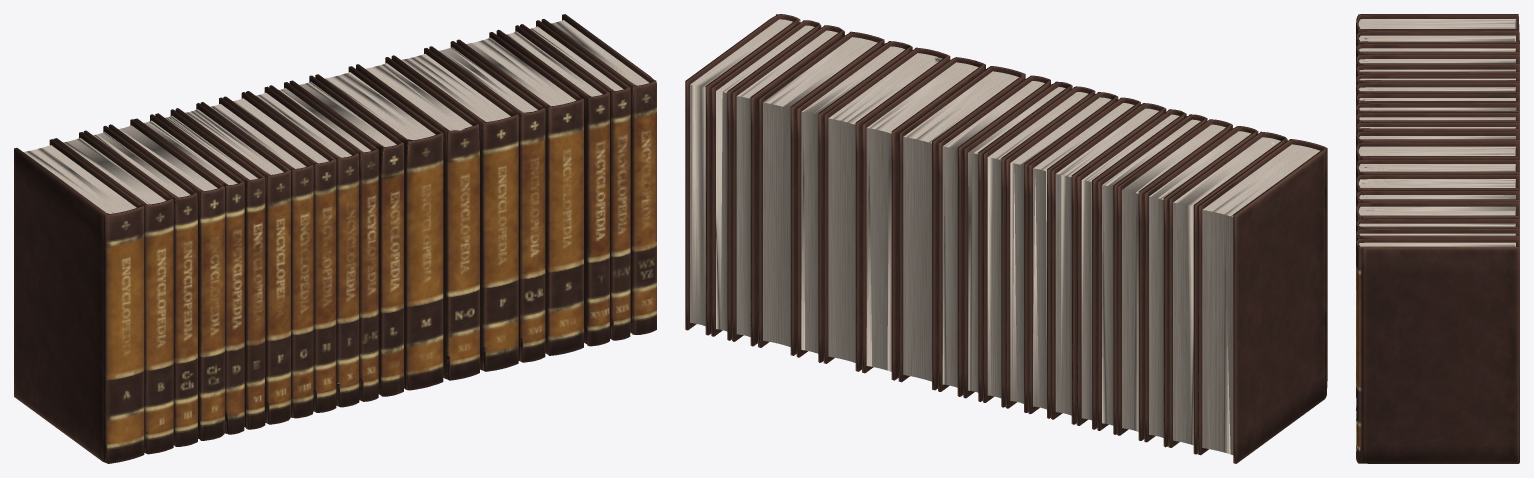
Rendered from book_encyclopedia_web.gltf.
3 views of the same model, side by side, from view 1: azimuth 30°, elevation 25°; view 2: azimuth 150°, elevation 25°; view 3: azimuth 270°, elevation 25° (orthographic). The views are drawn at different scales.
Parts seen in each view (by area): view 1: book_encyclopedia_set_01_book01, book_encyclopedia_set_01_book13, book_encyclopedia_set_01_book15, book_encyclopedia_set_01_book17, book_encyclopedia_set_01_book14, book_encyclopedia_set_01_book02, book_encyclopedia_set_01_book16, book_encyclopedia_set_01_book04, book_encyclopedia_set_01_book20, book_encyclopedia_set_01_book07, book_encyclopedia_set_01_book18, book_encyclopedia_set_01_book12 (+8 smaller); view 2: book_encyclopedia_set_01_book01, book_encyclopedia_set_01_book13, book_encyclopedia_set_01_book15, book_encyclopedia_set_01_book17, book_encyclopedia_set_01_book14, book_encyclopedia_set_01_book02, book_encyclopedia_set_01_book04, book_encyclopedia_set_01_book16, book_encyclopedia_set_01_book20, book_encyclopedia_set_01_book18, book_encyclopedia_set_01_book07, book_encyclopedia_set_01_book12 (+8 smaller); view 3: book_encyclopedia_set_01_book20, book_encyclopedia_set_01_book17, book_encyclopedia_set_01_book01, book_encyclopedia_set_01_book13, book_encyclopedia_set_01_book15, book_encyclopedia_set_01_book14, book_encyclopedia_set_01_book02, book_encyclopedia_set_01_book16, book_encyclopedia_set_01_book03, book_encyclopedia_set_01_book12, book_encyclopedia_set_01_book04, book_encyclopedia_set_01_book07 (+8 smaller).
Boxes of the visible parts, left/top/right/bottom form: book_encyclopedia_set_01_book01: left=14, top=139, right=144, bottom=463; book_encyclopedia_set_01_book13: left=315, top=66, right=443, bottom=390; book_encyclopedia_set_01_book15: left=391, top=48, right=518, bottom=371; book_encyclopedia_set_01_book17: left=456, top=32, right=583, bottom=355; book_encyclopedia_set_01_book14: left=356, top=57, right=479, bottom=380; book_encyclopedia_set_01_book02: left=53, top=132, right=173, bottom=454; book_encyclopedia_set_01_book16: left=429, top=41, right=545, bottom=362; book_encyclopedia_set_01_book04: left=108, top=119, right=224, bottom=440; book_encyclopedia_set_01_book20: left=541, top=14, right=656, bottom=334; book_encyclopedia_set_01_book07: left=175, top=103, right=290, bottom=424; book_encyclopedia_set_01_book18: left=496, top=25, right=609, bottom=346; book_encyclopedia_set_01_book12: left=289, top=75, right=403, bottom=396; book_encyclopedia_set_01_book01: left=1197, top=139, right=1327, bottom=463; book_encyclopedia_set_01_book13: left=898, top=66, right=1025, bottom=390; book_encyclopedia_set_01_book15: left=823, top=47, right=950, bottom=371; book_encyclopedia_set_01_book17: left=758, top=31, right=884, bottom=355; book_encyclopedia_set_01_book14: left=862, top=57, right=985, bottom=380; book_encyclopedia_set_01_book02: left=1168, top=131, right=1287, bottom=454; book_encyclopedia_set_01_book04: left=1117, top=119, right=1232, bottom=440; book_encyclopedia_set_01_book16: left=796, top=41, right=912, bottom=362; book_encyclopedia_set_01_book20: left=685, top=14, right=800, bottom=335; book_encyclopedia_set_01_book18: left=732, top=25, right=844, bottom=346; book_encyclopedia_set_01_book07: left=1051, top=103, right=1166, bottom=424; book_encyclopedia_set_01_book12: left=938, top=75, right=1050, bottom=396; book_encyclopedia_set_01_book20: left=1356, top=238, right=1519, bottom=463; book_encyclopedia_set_01_book17: left=1356, top=202, right=1519, bottom=242; book_encyclopedia_set_01_book01: left=1356, top=14, right=1519, bottom=47; book_encyclopedia_set_01_book13: left=1356, top=142, right=1519, bottom=165; book_encyclopedia_set_01_book15: left=1356, top=174, right=1519, bottom=397; book_encyclopedia_set_01_book14: left=1356, top=159, right=1519, bottom=194; book_encyclopedia_set_01_book02: left=1356, top=30, right=1519, bottom=132; book_encyclopedia_set_01_book16: left=1356, top=190, right=1519, bottom=410; book_encyclopedia_set_01_book03: left=1356, top=43, right=1519, bottom=57; book_encyclopedia_set_01_book12: left=1356, top=131, right=1519, bottom=159; book_encyclopedia_set_01_book04: left=1356, top=54, right=1519, bottom=72; book_encyclopedia_set_01_book07: left=1356, top=82, right=1519, bottom=95.
Bounding box in the file's own units: 0.5513 × 0.2374 × 0.1631.
2 materials, 2 textured.
